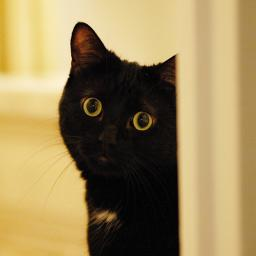catnose: (95, 133, 119, 152)
